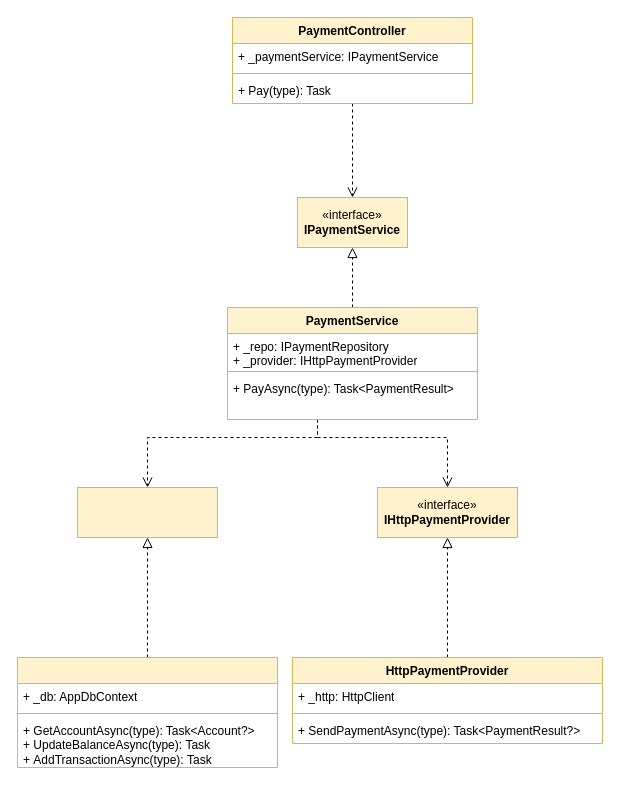
Image size: 620x788. Some labels were removed from this diagram. Each missing label, with the box of its shape:
PaymentRepository: (16, 656, 278, 768)
«interface» IPaymentRepository: (76, 486, 218, 538)
